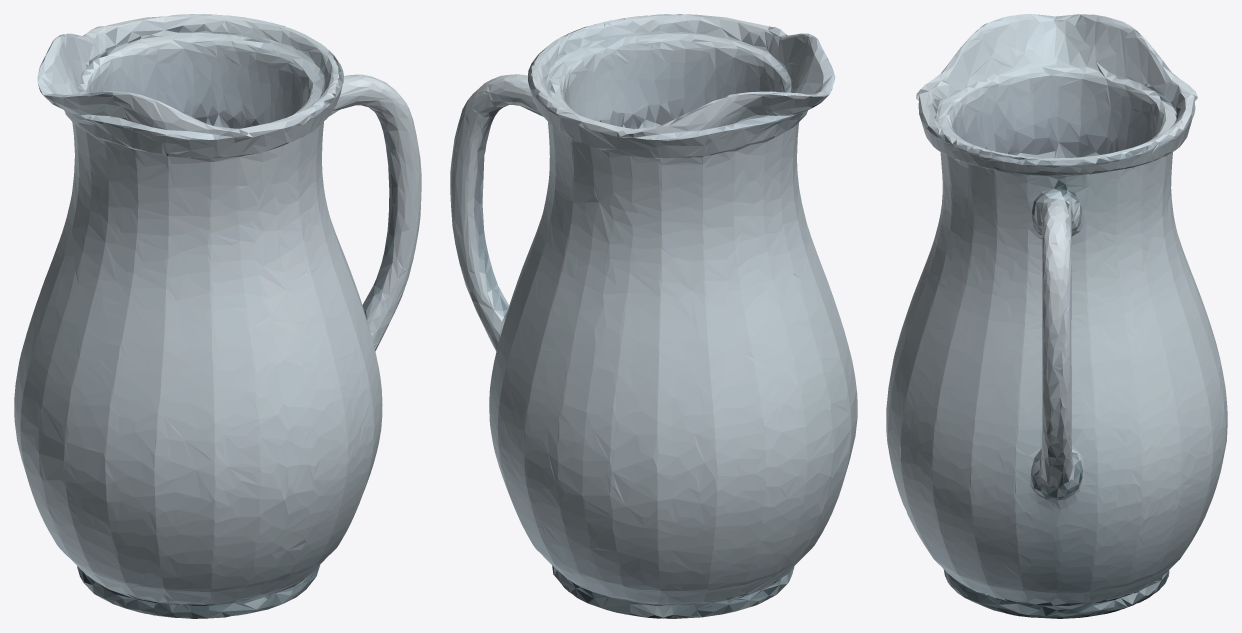
Rendered from water.glb.
3 renders of one model, left to right at view 1: azimuth 30°, elevation 25°; view 2: azimuth 150°, elevation 25°; view 3: azimuth 270°, elevation 25°, orthographic. The views are drawn at different scales.
Visible parts, largest first — view 1: geometry_0; view 2: geometry_0; view 3: geometry_0.
Part boxes in pixels (x1,y1,x2,y2): geometry_0: (14, 14, 421, 618); geometry_0: (450, 14, 857, 618); geometry_0: (886, 14, 1227, 618).
Size of the model in its own units: 0.1425 by 0.19 by 0.1175.
Materials: 1 (1 with a texture image).
